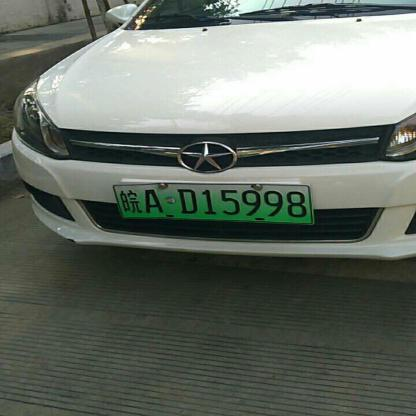lp: (114, 185, 311, 224)
